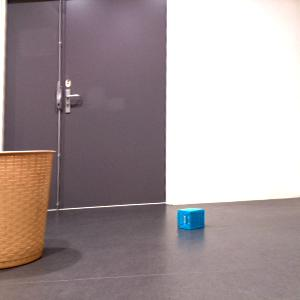medium: (1, 149, 58, 272)
small: (176, 205, 207, 232)
